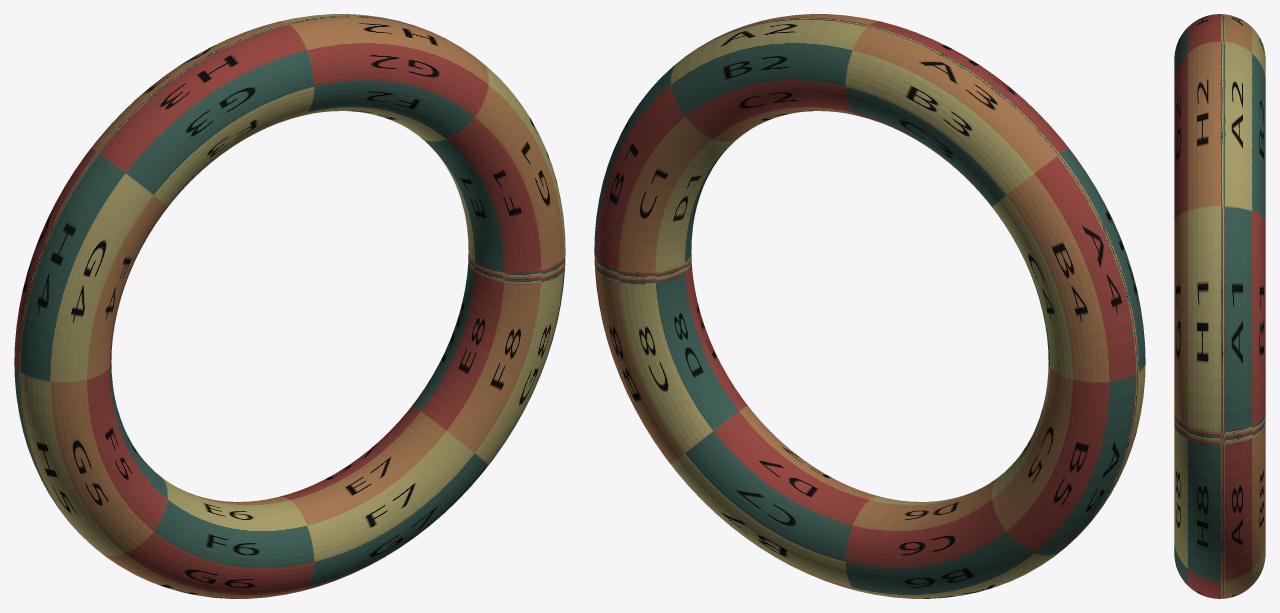
Rendered from texture_torus_R9_r4.glb.
3 renders of one model, left to right at view 1: azimuth 30°, elevation 25°; view 2: azimuth 150°, elevation 25°; view 3: azimuth 270°, elevation 25°, orthographic. The views are drawn at different scales.
Visible parts, largest first — view 1: world; view 2: world; view 3: world.
Part boxes in pixels (x1=…): world: x1=14, y1=14, x2=565, y2=598; world: x1=594, y1=14, x2=1145, y2=598; world: x1=1174, y1=14, x2=1265, y2=598.
Size of the model in its own units: 35.56 by 35.56 by 5.54.
Materials: 1 (1 with a texture image).
